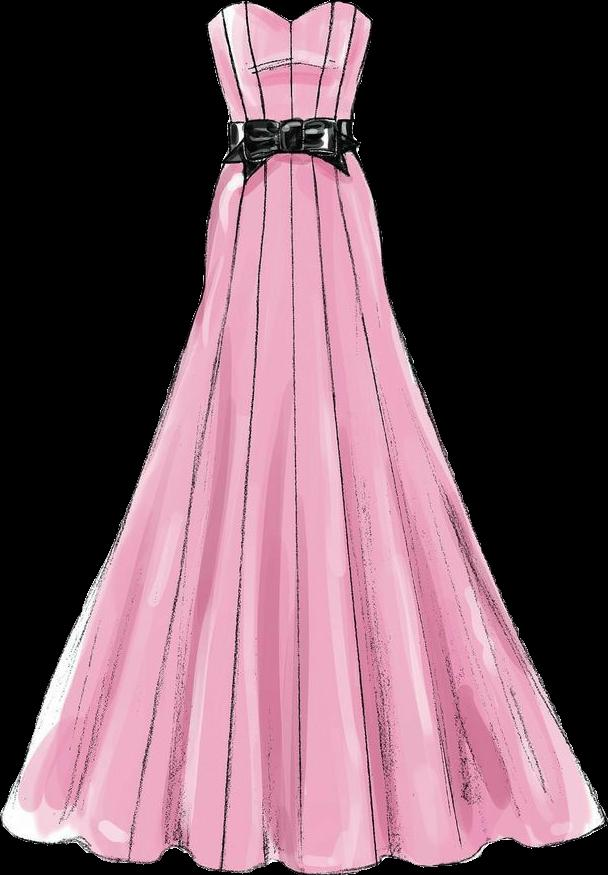Bodice: (208, 1, 372, 160)
Hemline: (0, 809, 607, 874)
Neckline: (205, 0, 377, 33)
Skirt: (1, 154, 606, 873)
Waistline: (223, 149, 362, 167)
